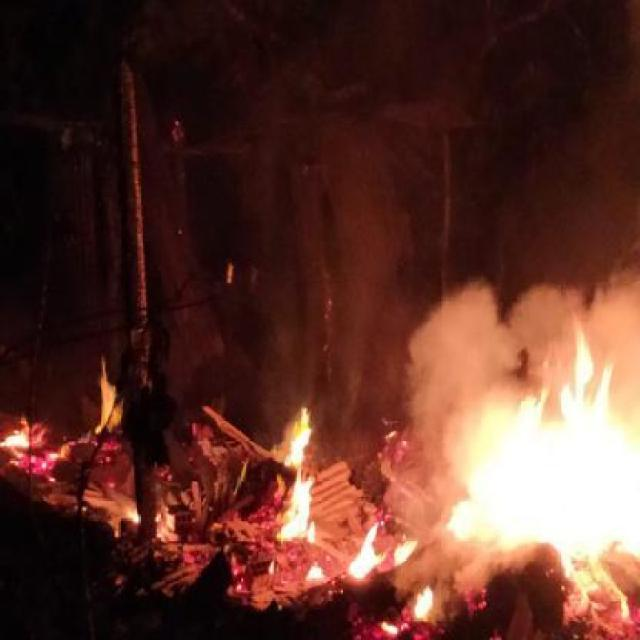Fire: (451, 322, 640, 566), (89, 354, 125, 436), (280, 471, 318, 538), (348, 516, 386, 582), (278, 407, 314, 467), (346, 527, 382, 576), (2, 414, 35, 449), (409, 586, 434, 619), (392, 539, 419, 567), (414, 592, 436, 622), (156, 512, 178, 540), (397, 531, 415, 564), (308, 560, 326, 583)
